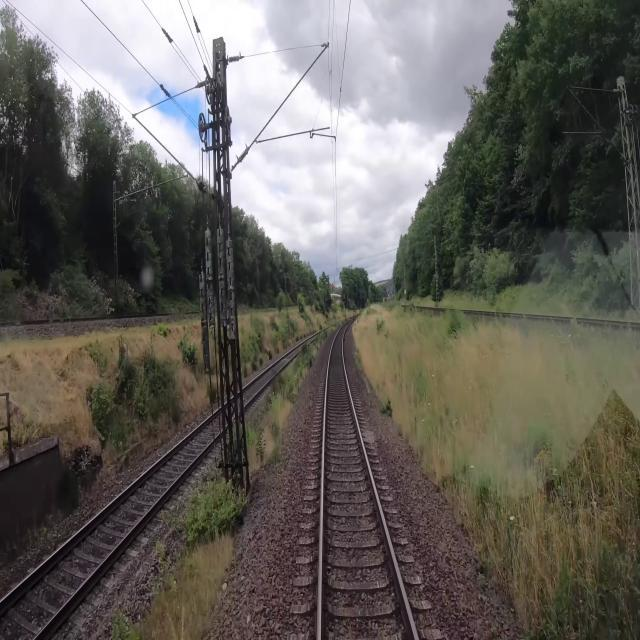Plant: (104, 474, 245, 639), (244, 332, 330, 478), (353, 344, 364, 370), (379, 405, 389, 414)
